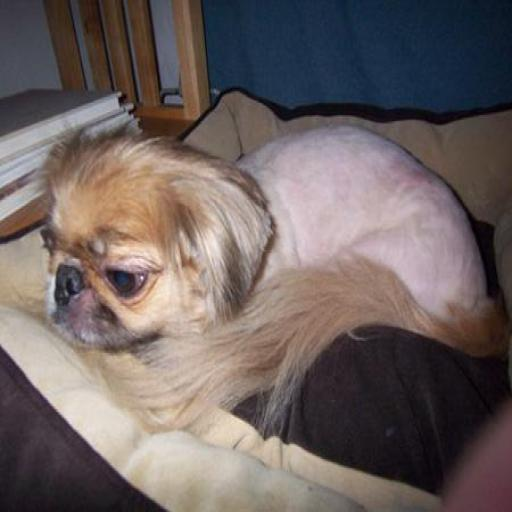dog_face: (35, 130, 256, 335)
